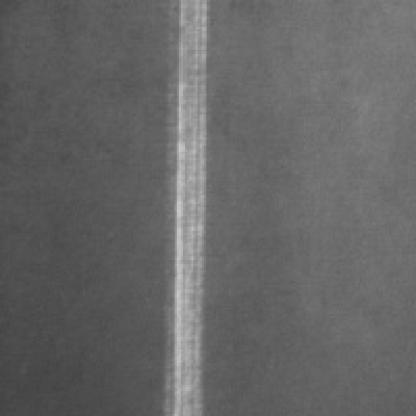scratches: (164, 4, 218, 416)
